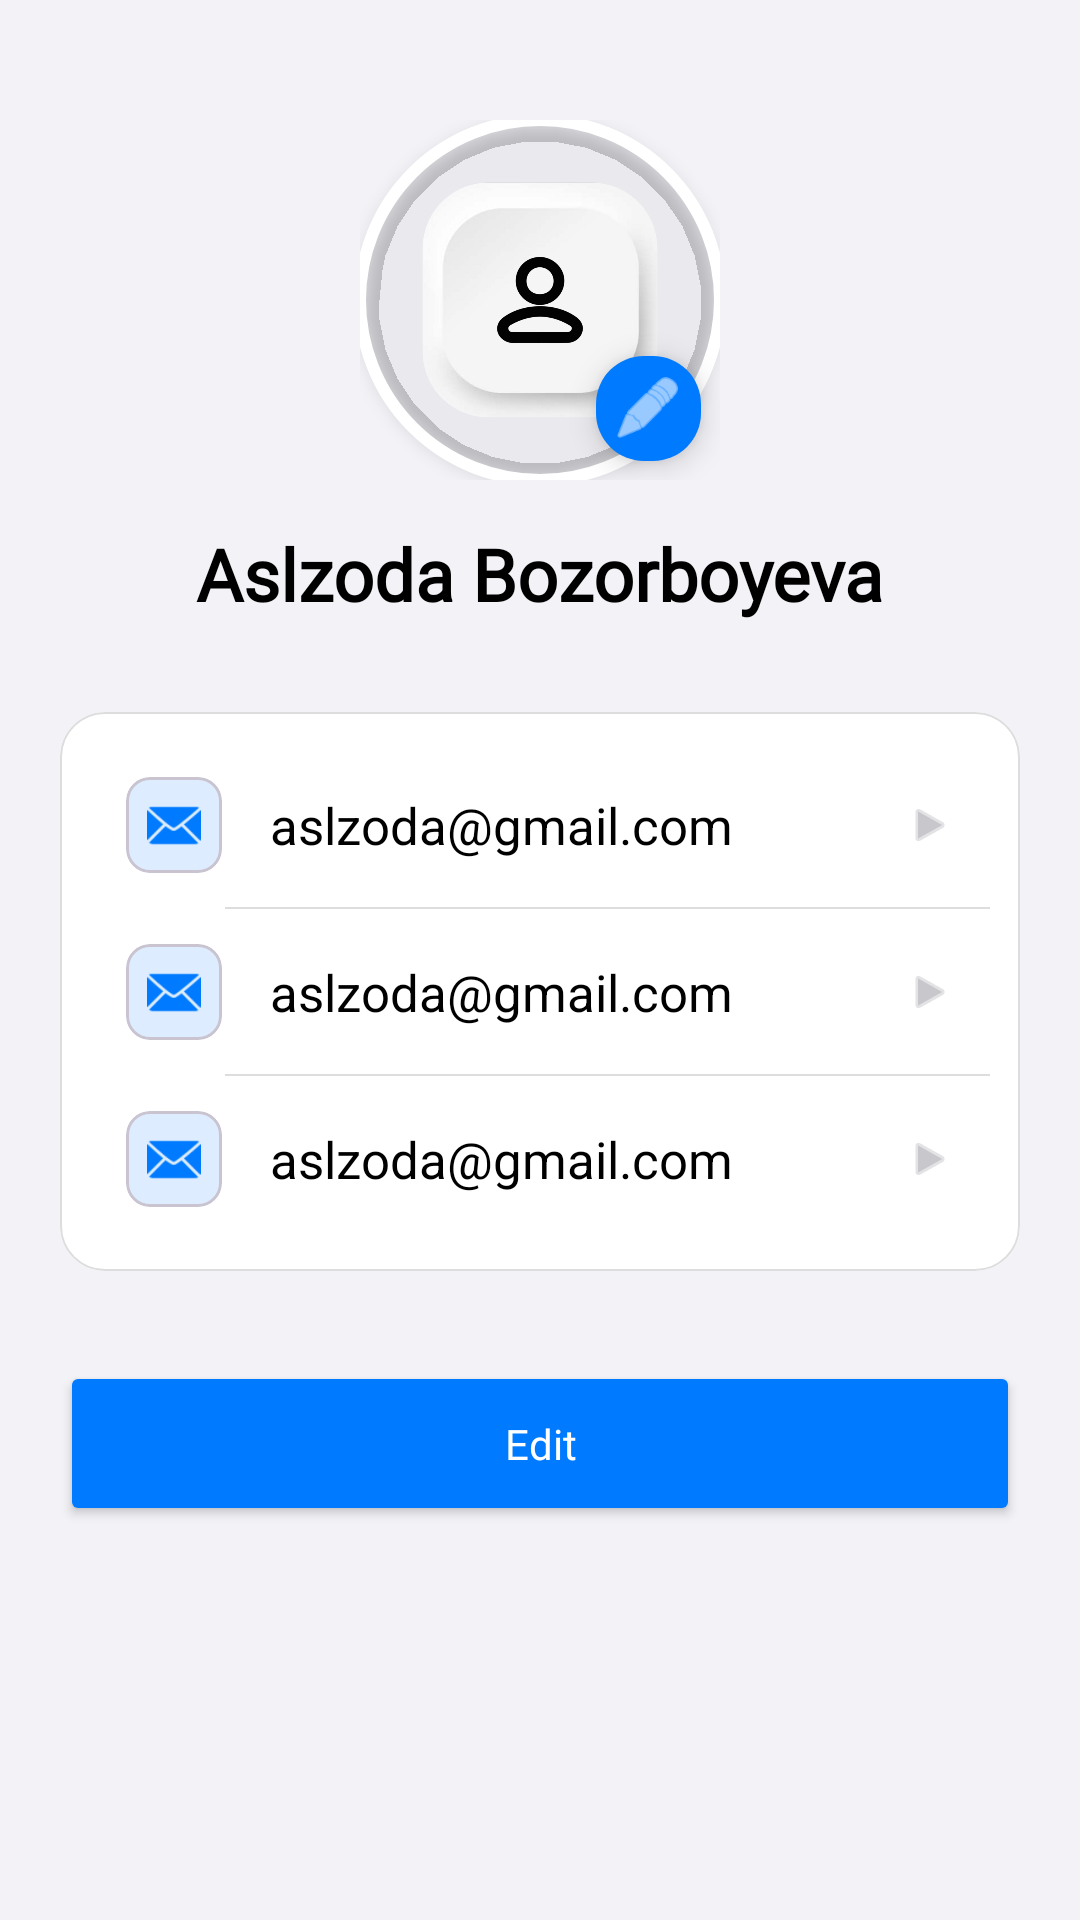

Icon click points for this 1080x1920 phone screenshot, format (x=x, y=y):
email: (x=174, y=825), (x=174, y=992), (x=174, y=1159)
play: (x=930, y=825), (x=930, y=992), (x=930, y=1159)
